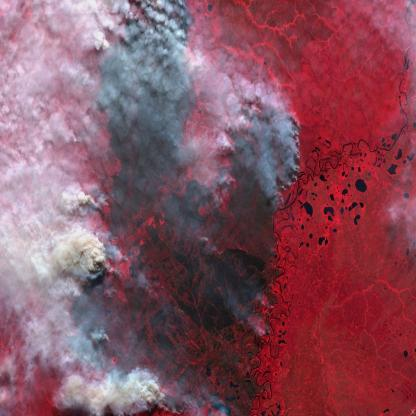fire: (272, 110, 306, 208), (98, 234, 131, 294), (252, 290, 278, 351), (94, 192, 110, 213)
